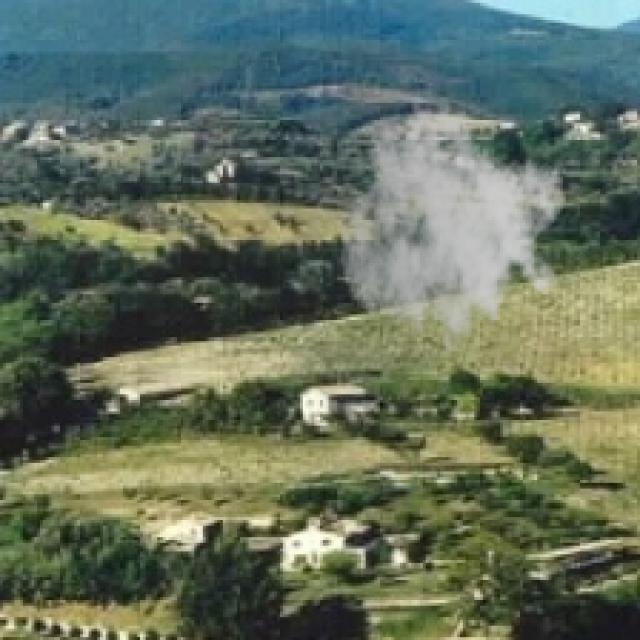smoke: (337, 97, 566, 372)
